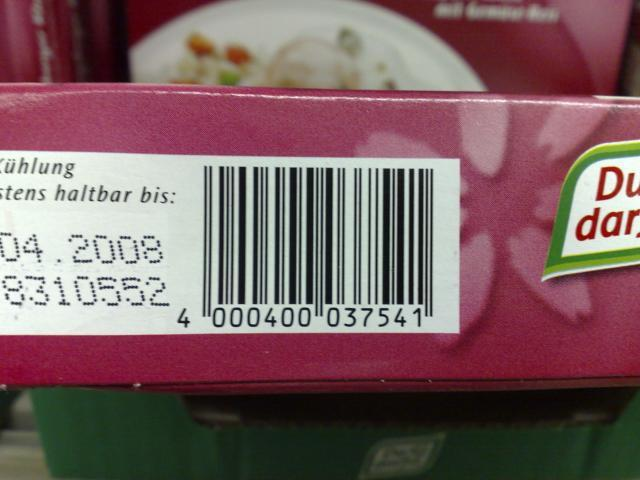Barcode: (176, 156, 457, 334)
